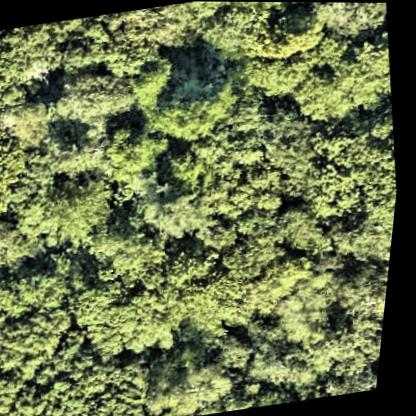tree-top: (159, 213, 326, 341), (198, 94, 320, 215), (286, 264, 395, 389), (300, 110, 407, 222), (78, 276, 191, 362), (0, 268, 89, 375), (286, 42, 395, 125), (44, 346, 171, 416), (228, 326, 320, 411), (45, 59, 145, 137), (87, 118, 168, 213), (28, 169, 122, 248), (94, 1, 214, 60), (144, 347, 244, 416), (148, 81, 241, 150), (94, 221, 180, 293), (191, 1, 275, 69), (238, 37, 324, 102), (324, 200, 400, 265), (0, 21, 66, 94), (255, 2, 325, 59), (0, 93, 63, 156), (150, 187, 214, 246), (272, 201, 333, 262), (308, 2, 388, 41), (0, 209, 40, 286), (0, 131, 34, 219), (0, 365, 58, 416), (160, 143, 215, 196), (125, 61, 175, 108)
